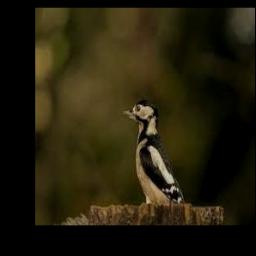Woodpecker: (121, 100, 185, 204)
